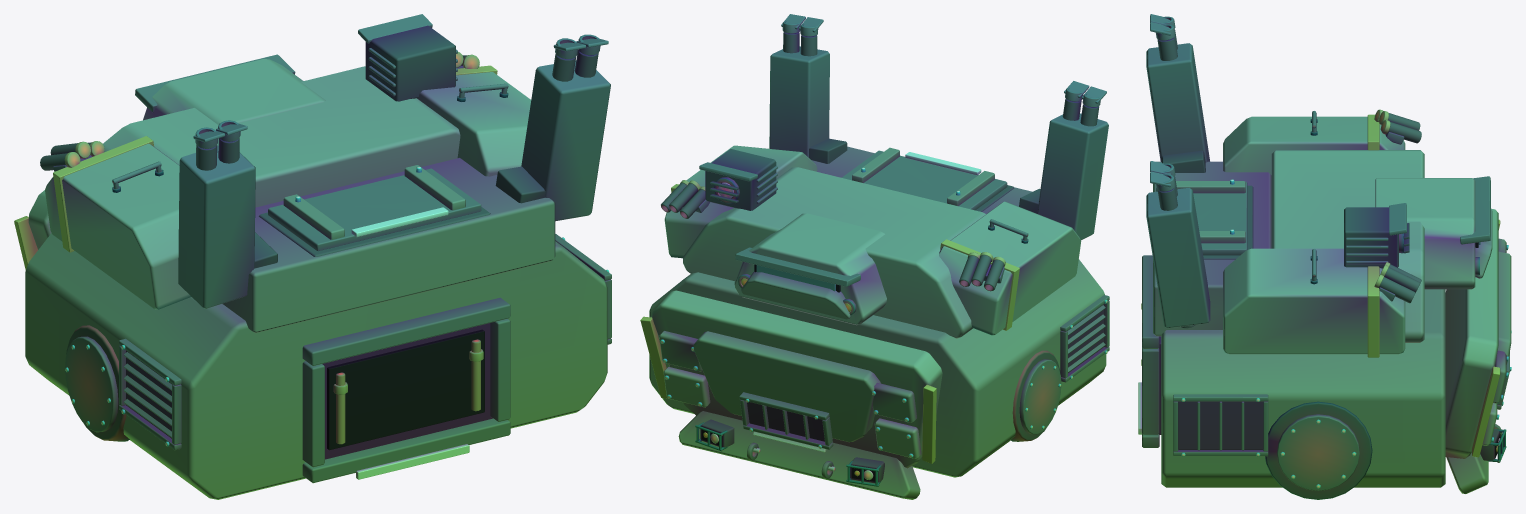
File: core_heavy.glb
The picture shows the model from 3 angles, left to right: view 1: azimuth 30°, elevation 25°; view 2: azimuth 150°, elevation 25°; view 3: azimuth 270°, elevation 25°; orthographic projection. The views are drawn at different scales.
Parts seen in each view (by area): view 1: Body__armor_sub, Body__gunmetal, Body__armor, Body__dark, Body__bore, Body__accent, Body__hazard, Body__copper, Body__brass; view 2: Body__armor, Body__armor_sub, Body__gunmetal, Body__dark, Body__accent, Body__hazard, Body__chrome, Body__glass; view 3: Body__armor, Body__armor_sub, Body__gunmetal, Body__dark, Body__accent, Body__brass.
Part boxes in pixels (bbox=[...]): Body__armor_sub: bbox=[25, 158, 607, 499]; Body__gunmetal: bbox=[53, 14, 611, 483]; Body__armor: bbox=[28, 59, 531, 309]; Body__dark: bbox=[40, 25, 598, 459]; Body__bore: bbox=[327, 329, 484, 450]; Body__accent: bbox=[14, 65, 497, 270]; Body__hazard: bbox=[351, 207, 469, 479]; Body__copper: bbox=[336, 339, 480, 444]; Body__brass: bbox=[64, 52, 483, 394]; Body__armor: bbox=[652, 145, 1081, 468]; Body__armor_sub: bbox=[649, 146, 1106, 499]; Body__gunmetal: bbox=[683, 14, 1109, 486]; Body__dark: bbox=[661, 32, 1103, 483]; Body__accent: bbox=[640, 184, 1019, 463]; Body__hazard: bbox=[753, 152, 981, 452]; Body__chrome: bbox=[660, 167, 1107, 471]; Body__glass: bbox=[756, 265, 835, 291]; Body__armor: bbox=[1223, 116, 1498, 458]; Body__armor_sub: bbox=[1153, 161, 1511, 493]; Body__gunmetal: bbox=[1142, 14, 1509, 490]; Body__dark: bbox=[1156, 29, 1500, 499]; Body__accent: bbox=[1367, 114, 1500, 457]; Body__brass: bbox=[1141, 109, 1390, 365].
Bounding box in the file's own units: 2.04 × 1.78 × 1.76.
